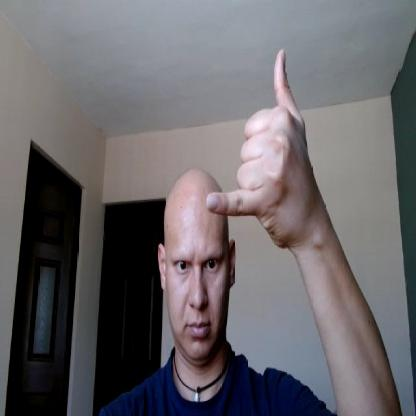Y: (206, 46, 311, 248)
